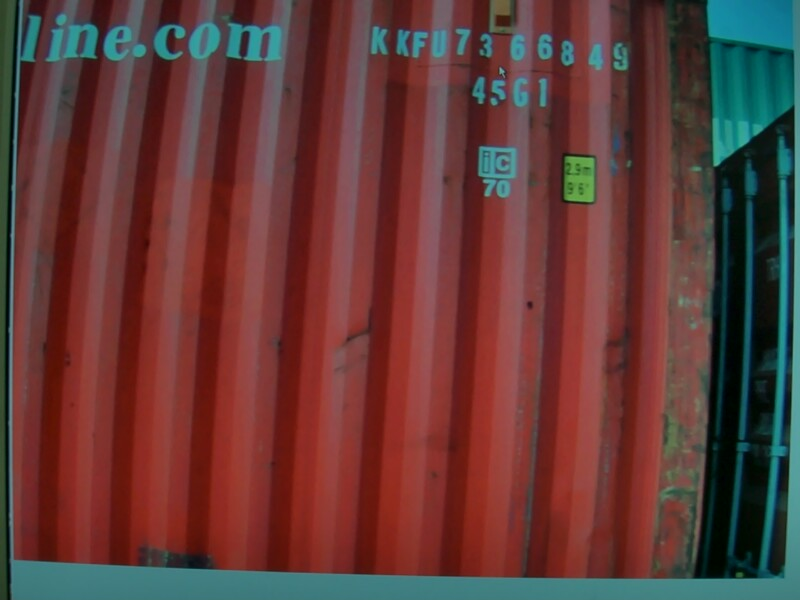container_no_door: (44, 117, 599, 555)
